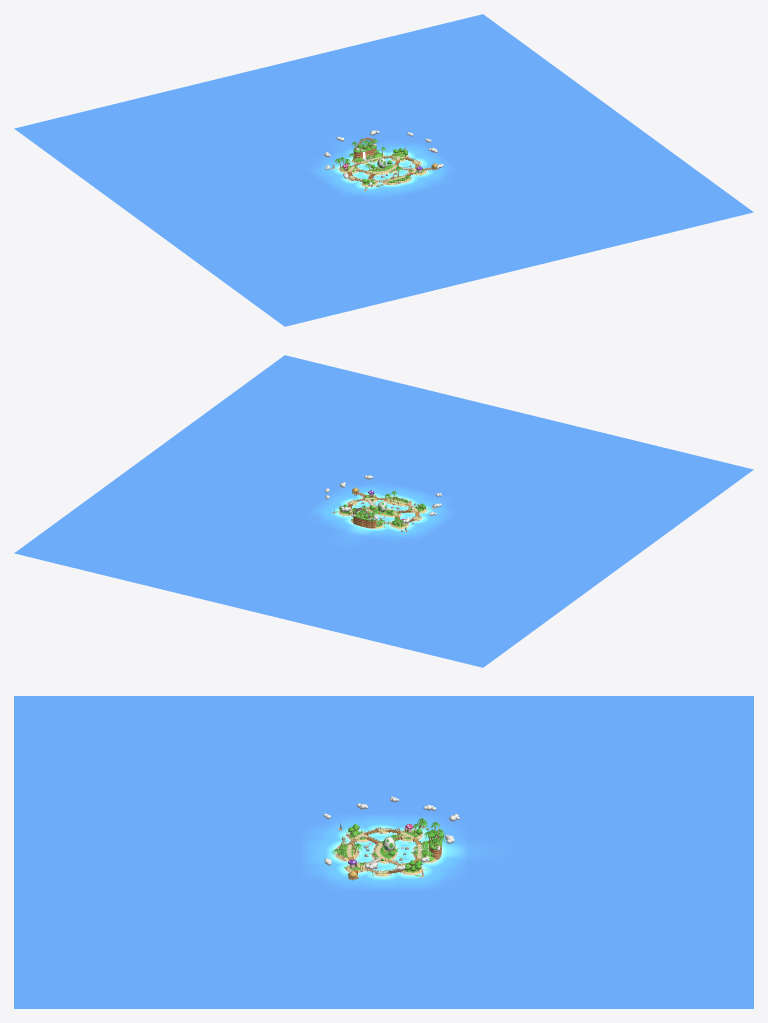
The model's file is board-merge.glb.
3 views of the same model, one above another, from view 1: azimuth 30°, elevation 25°; view 2: azimuth 150°, elevation 25°; view 3: azimuth 270°, elevation 25° (orthographic). The views are drawn at different scales.
Parts seen in each view (by area): view 1: Water, Terrain; view 2: Water, Terrain; view 3: Water, Terrain.
Part boxes in pixels (x1=…): Water: x1=14, y1=14, x2=753, y2=326; Terrain: x1=339, y1=152, x2=426, y2=186; Water: x1=14, y1=355, x2=753, y2=667; Terrain: x1=339, y1=494, x2=426, y2=528; Water: x1=14, y1=696, x2=753, y2=1008; Terrain: x1=335, y1=828, x2=436, y2=876.
Bounding box in the file's own units: 280 × 11.67 × 280.
14 materials, 6 textured.
